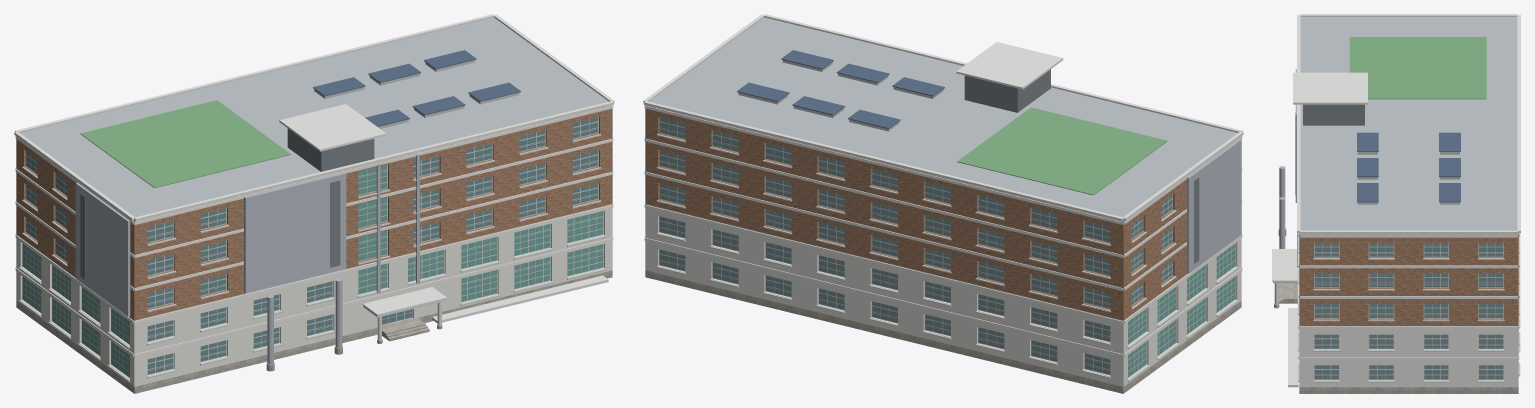
3 views of the same model, side by side, from view 1: azimuth 30°, elevation 25°; view 2: azimuth 150°, elevation 25°; view 3: azimuth 270°, elevation 25° (orthographic). The views are drawn at different scales.
Visible parts, largest first — view 1: gibong__metalroof, gibong__redbrick, gibong__panel, gibong__metalpanel, gibong__tealglass, gibong__glass, gibong__cap, gibong__roofturf, gibong__band, gibong__frame, gibong__sill, gibong__stone (+3 smaller); view 2: gibong__metalroof, gibong__redbrick, gibong__panel, gibong__sideglass, gibong__band, gibong__frame, gibong__roofturf, gibong__cap, gibong__metalpanel, gibong__stone, gibong__sill, gibong__tealglass (+4 smaller); view 3: gibong__metalroof, gibong__redbrick, gibong__panel, gibong__roofturf, gibong__cap, gibong__sideglass, gibong__band, gibong__frame, gibong__solar, gibong__sill, gibong__stone, gibong__darkframe (+3 smaller).
Part boxes in pixels (x1,y1,x2,y2): gibong__metalroof: (20, 17, 608, 221); gibong__redbrick: (16, 105, 612, 320); gibong__panel: (16, 204, 612, 386); gibong__metalpanel: (75, 154, 419, 364); gibong__tealglass: (22, 164, 603, 377); gibong__glass: (26, 117, 598, 374); gibong__cap: (14, 14, 614, 340); gibong__roofturf: (80, 100, 290, 188); gibong__band: (15, 105, 613, 357); gibong__frame: (22, 117, 603, 377); gibong__sill: (18, 134, 606, 381); gibong__stone: (16, 270, 612, 393); gibong__metalroof: (649, 17, 1237, 221); gibong__redbrick: (645, 105, 1241, 320); gibong__panel: (645, 204, 1241, 386); gibong__sideglass: (659, 117, 1110, 374); gibong__band: (644, 105, 1242, 357); gibong__frame: (659, 117, 1235, 377); gibong__roofturf: (957, 107, 1167, 195); gibong__cap: (643, 14, 1243, 221); gibong__metalpanel: (1186, 139, 1241, 273); gibong__stone: (645, 270, 1241, 393); gibong__sill: (656, 134, 1239, 381); gibong__tealglass: (1128, 244, 1235, 377); gibong__metalroof: (1299, 17, 1518, 233); gibong__redbrick: (1299, 234, 1518, 325); gibong__panel: (1299, 326, 1518, 387); gibong__roofturf: (1349, 37, 1486, 99); gibong__cap: (1272, 14, 1520, 387); gibong__sideglass: (1314, 243, 1503, 379); gibong__band: (1298, 233, 1519, 359); gibong__frame: (1314, 243, 1503, 379); gibong__solar: (1357, 132, 1460, 202); gibong__sill: (1297, 233, 1520, 382); gibong__stone: (1274, 228, 1518, 393); gibong__darkframe: (1295, 104, 1364, 194).
Bounding box in the file's own units: 56.66 × 22.64 × 27.23.
Materials: 18 (2 with a texture image).
